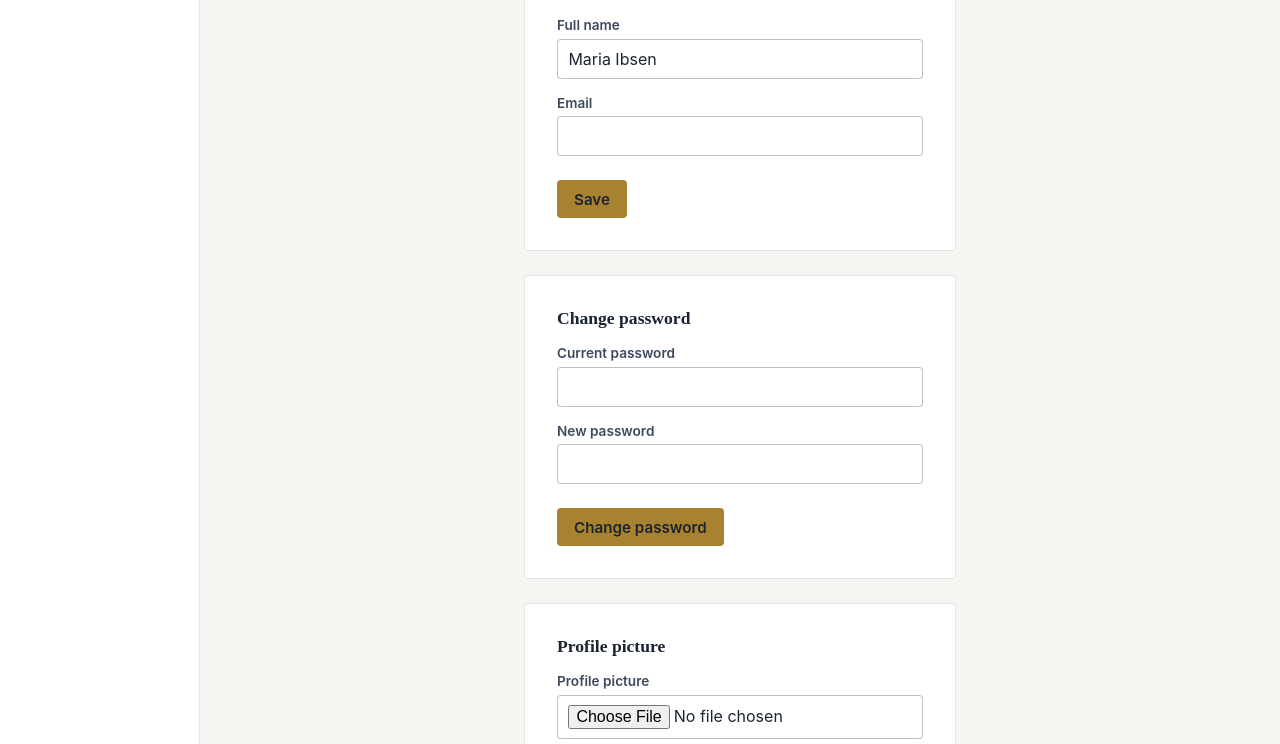
Test: ProfilePage › shows an error when the current password is wrong
This screenshot has width=1280, height=744.
(page scrolled)
Type "wrong" into the password field labelled "Current password" at x=740, y=387, box [557,367,923,406]
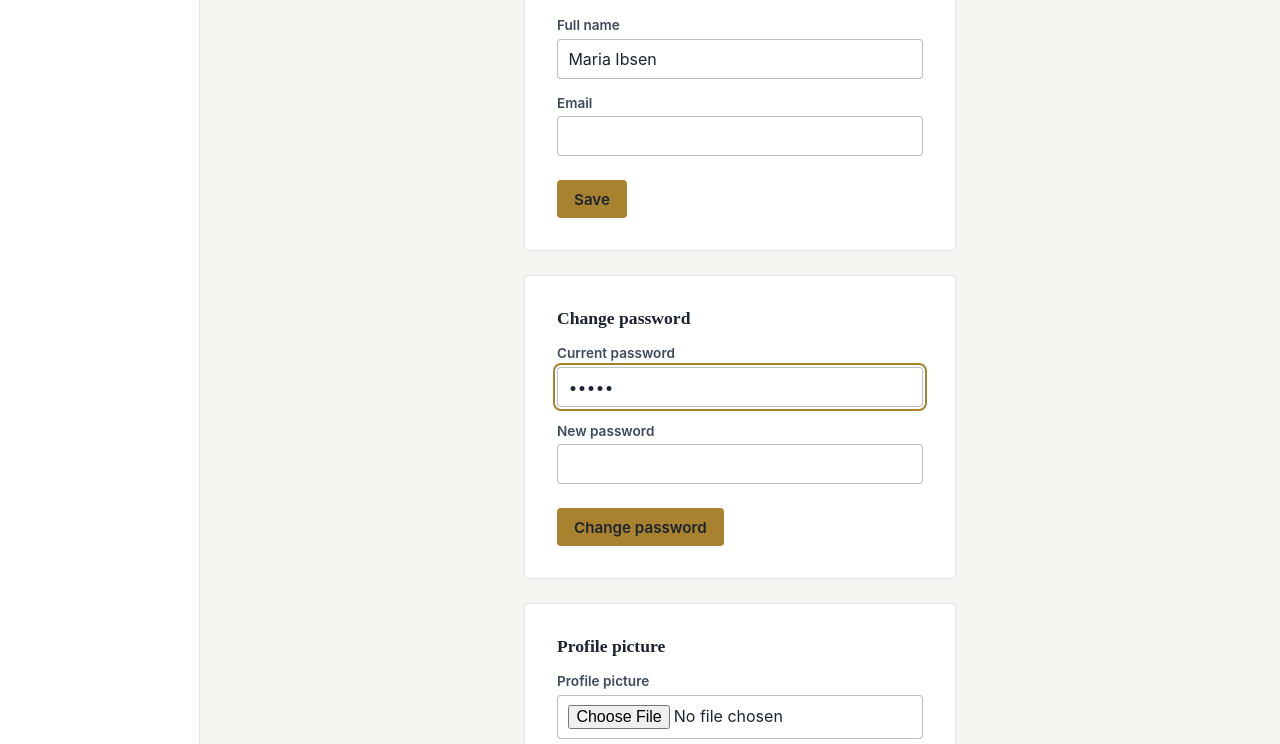
Type "a brand new password" into the password field labelled "New password" at x=740, y=464, box [557,444,923,484]
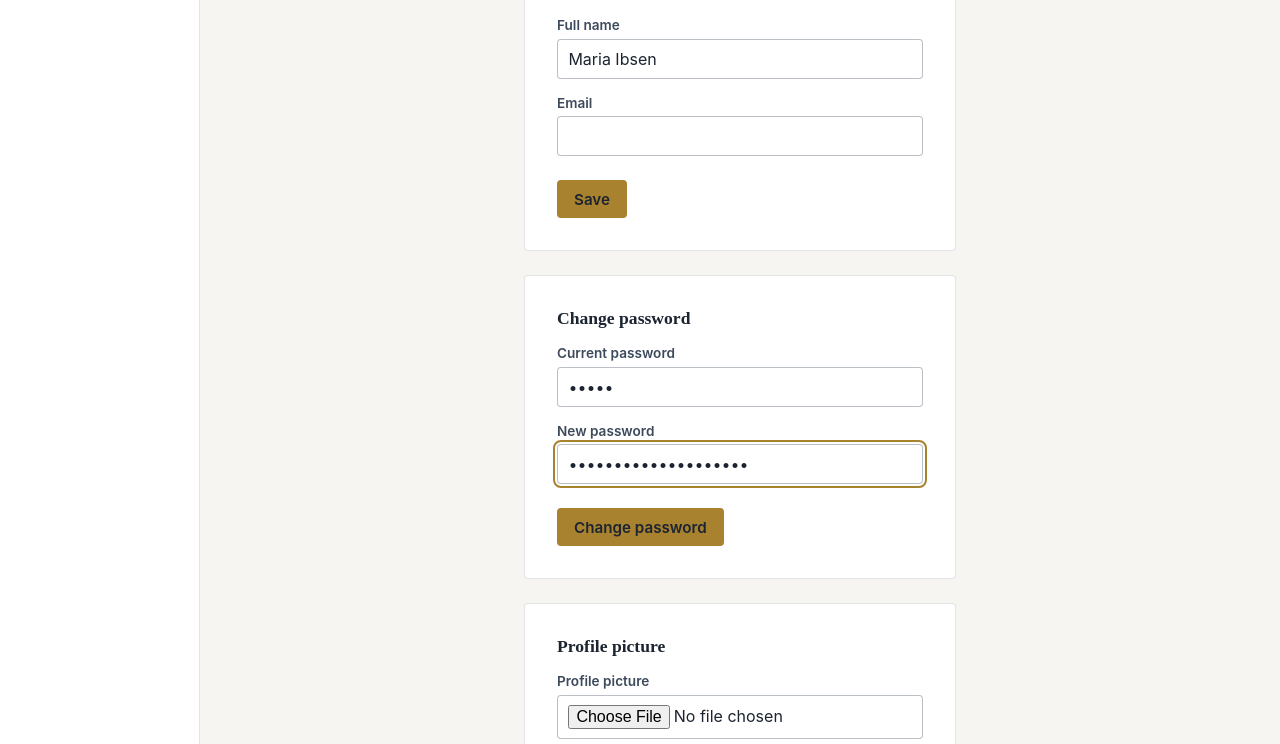
Click the button "Change password" at x=640, y=527, box [557,508,724,546]
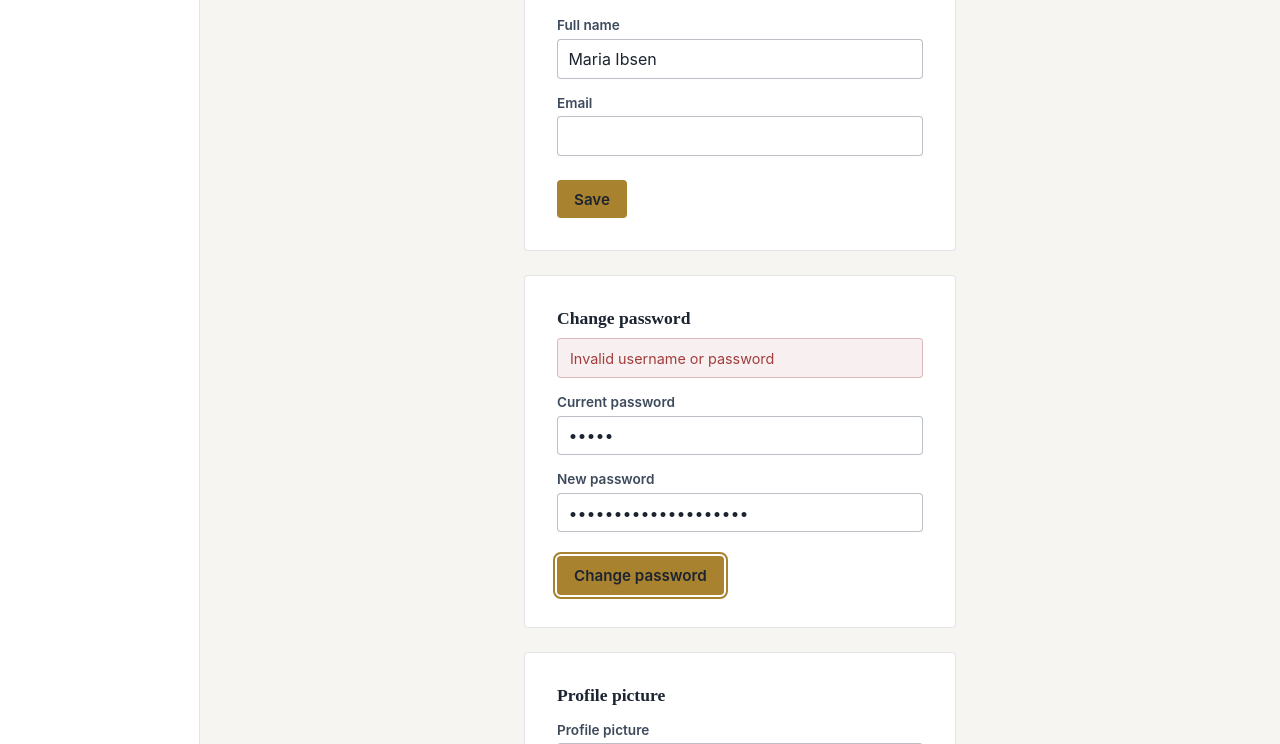
Check: the text "Invalid username or password" is shown, box [557,338,923,378]
